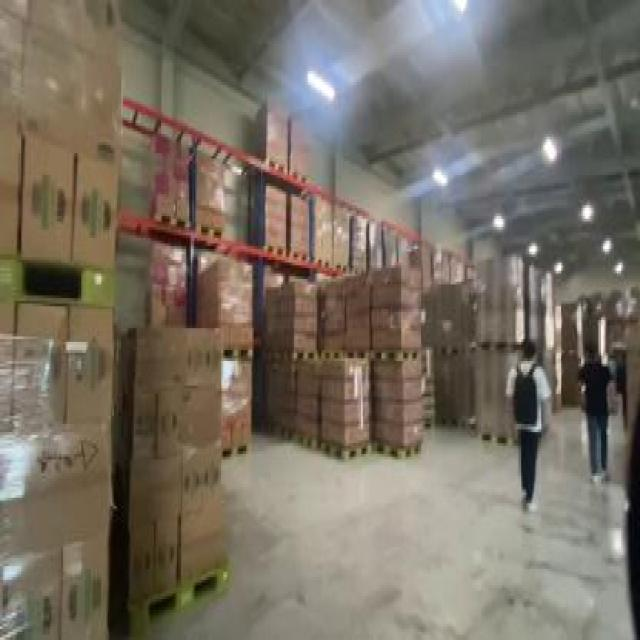box: (2, 301, 126, 637), (1, 3, 117, 312), (117, 323, 228, 632), (268, 266, 423, 470), (426, 254, 559, 452), (144, 235, 256, 451), (152, 128, 226, 238), (366, 257, 420, 361), (320, 356, 369, 462), (263, 350, 322, 438), (348, 213, 410, 290), (372, 361, 423, 454), (257, 101, 312, 186), (317, 268, 368, 358), (257, 180, 314, 260), (264, 279, 318, 358), (311, 192, 351, 276), (557, 304, 586, 404), (583, 315, 609, 413), (412, 243, 468, 284)
person: (510, 336, 548, 514), (574, 342, 611, 489), (617, 342, 631, 429), (606, 345, 620, 413)
